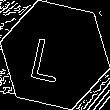L_N: (34, 27, 76, 83)
